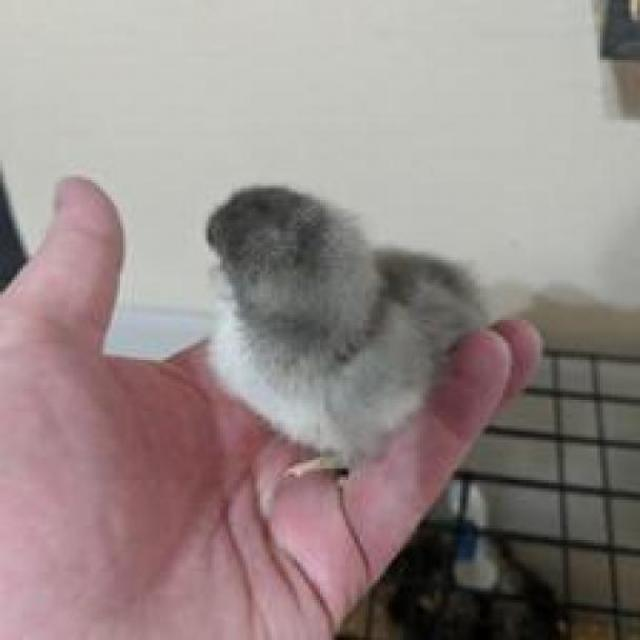Chicken: (218, 176, 538, 412)
